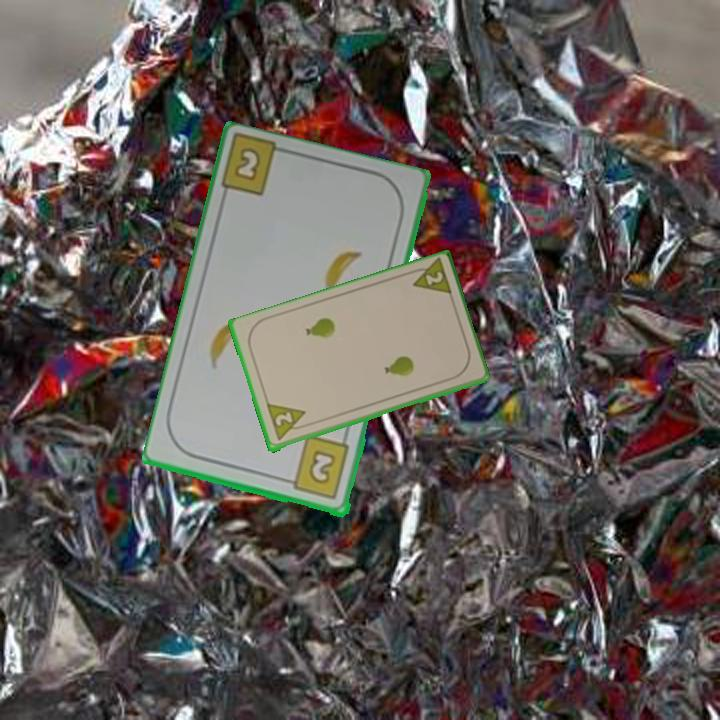2b: (281, 433, 353, 503), (231, 144, 264, 185)
2p: (404, 256, 455, 300), (263, 401, 312, 444)
